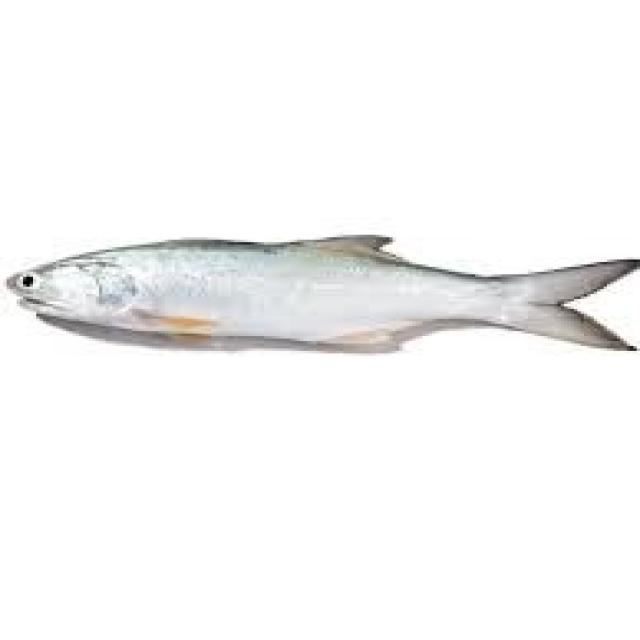Fourfinger-Threadfin: (3, 190, 640, 410)
